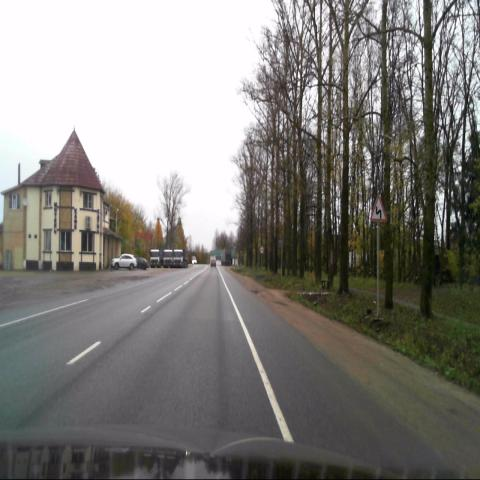1_12_2: (370, 194, 387, 221)
